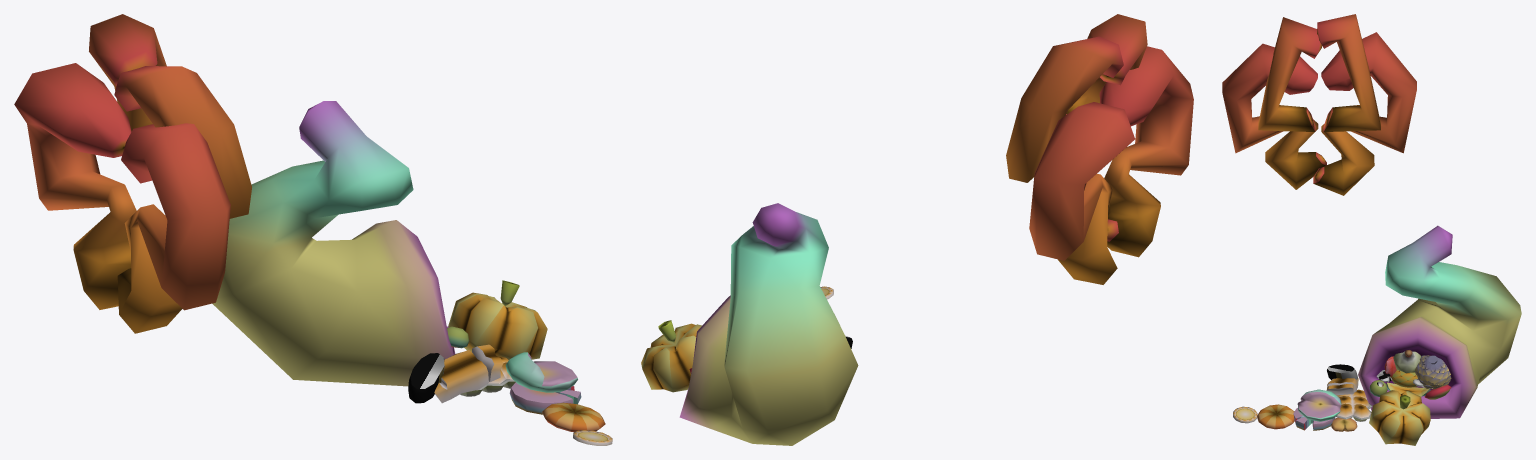
Rendered from brightShiny_01.gltf.
3 renders of one model, left to right at view 1: azimuth 30°, elevation 25°; view 2: azimuth 150°, elevation 25°; view 3: azimuth 270°, elevation 25°, orthographic. The views are drawn at different scales.
Parts seen in each view (by area): view 1: extrudedSurface84, extrudedSurface85, pasted__pCylinder120, pasted__polySurface43, pasted__pSphere10, pasted__pSphere7, pasted__pCylinder122, pasted__group21, pasted__pPlane49; view 2: extrudedSurface84, extrudedSurface85, pasted__pCylinder120; view 3: extrudedSurface84, extrudedSurface85, pasted__pCylinder120, pasted__pSphere10, pasted__pPlane40, pasted__pPlane49, pasted__pSphere7, pasted__pCylinder117, pasted__polySurface43, pasted__group21, pasted__pCylinder122, pasted__pPlane22 (+3 smaller).
Boxes of the visible parts, bbox=[...] form: extrudedSurface84: bbox=[14, 14, 251, 333]; extrudedSurface85: bbox=[212, 101, 455, 386]; pasted__pCylinder120: bbox=[448, 280, 547, 359]; pasted__polySurface43: bbox=[434, 344, 503, 403]; pasted__pSphere10: bbox=[505, 352, 577, 392]; pasted__pSphere7: bbox=[542, 402, 605, 431]; pasted__pCylinder122: bbox=[408, 353, 444, 403]; pasted__group21: bbox=[509, 382, 581, 414]; pasted__pPlane49: bbox=[460, 356, 515, 396]; extrudedSurface84: bbox=[1006, 14, 1193, 284]; extrudedSurface85: bbox=[679, 203, 858, 445]; pasted__pCylinder120: bbox=[641, 320, 701, 392]; extrudedSurface84: bbox=[1222, 14, 1416, 195]; extrudedSurface85: bbox=[1358, 225, 1521, 418]; pasted__pCylinder120: bbox=[1369, 390, 1430, 445]; pasted__pSphere10: bbox=[1297, 389, 1341, 421]; pasted__pPlane40: bbox=[1415, 355, 1451, 388]; pasted__pPlane49: bbox=[1335, 389, 1372, 421]; pasted__pSphere7: bbox=[1257, 404, 1294, 429]; pasted__pCylinder117: bbox=[1393, 350, 1420, 373]; pasted__polySurface43: bbox=[1326, 378, 1358, 395]; pasted__group21: bbox=[1293, 408, 1335, 430]; pasted__pCylinder122: bbox=[1327, 364, 1357, 379]; pasted__pPlane22: bbox=[1390, 370, 1417, 387].
Size of the model in its own units: 46.58 by 38.52 by 35.67.
1 material, 1 textured.
